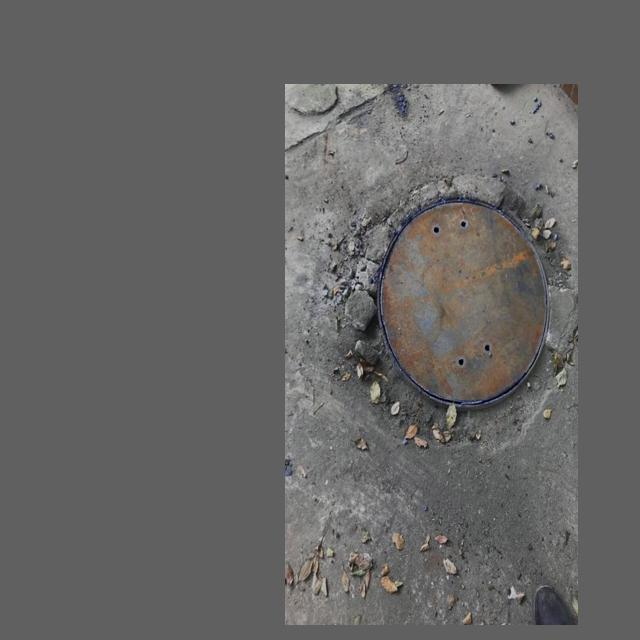circle: (321, 167, 570, 466)
